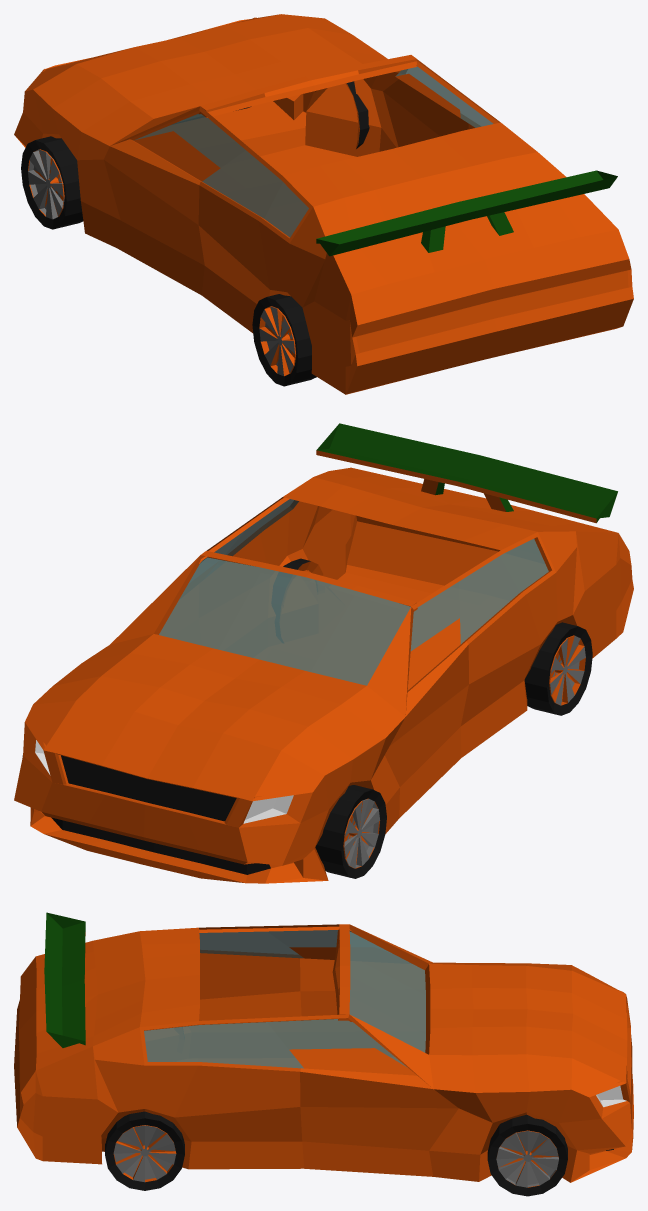
The model's file is car.fbx.
3 views of the same model, one above another, from view 1: azimuth 30°, elevation 25°; view 2: azimuth 150°, elevation 25°; view 3: azimuth 270°, elevation 25° (orthographic). The views are drawn at different scales.
Visible parts, largest first — view 1: Cube; view 2: Cube; view 3: Cube.
Boxes of the visible parts, x1,y1,x2,y2 form: Cube: (14,14,633,394); Cube: (14,423,633,883); Cube: (14,912,633,1196).
Size of the model in its own units: 227 by 126 by 435.
